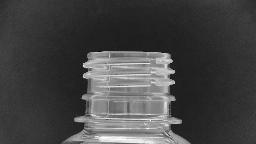No Cap: (70, 46, 184, 128)
